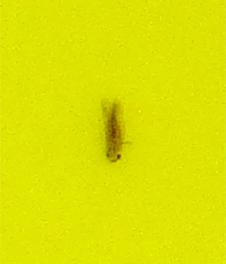Hemiptera: (100, 100, 126, 164)
